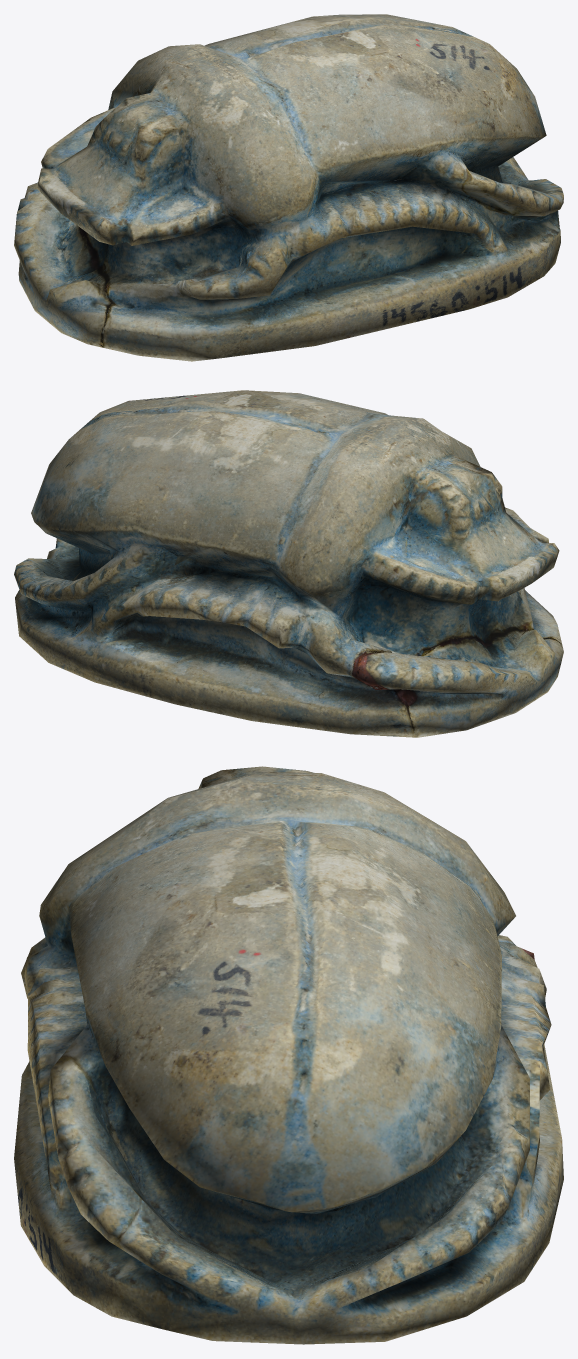
File: Skarabi_Scarab.fbx
The picture shows the model from 3 angles, top to bottom: view 1: azimuth 30°, elevation 25°; view 2: azimuth 150°, elevation 25°; view 3: azimuth 270°, elevation 25°; orthographic projection. The views are drawn at different scales.
Parts seen in each view (by area): view 1: Skarabi_Scarab_LOD0; view 2: Skarabi_Scarab_LOD0; view 3: Skarabi_Scarab_LOD0.
Boxes of the visible parts, x1,y1,x2,y2 form: Skarabi_Scarab_LOD0: (14,14,563,361); Skarabi_Scarab_LOD0: (14,390,563,737); Skarabi_Scarab_LOD0: (14,766,563,1344).
Size of what is drawn, in the model's own units: 6.53 by 2.95 by 4.37.
Materials: 1 (1 with a texture image).
